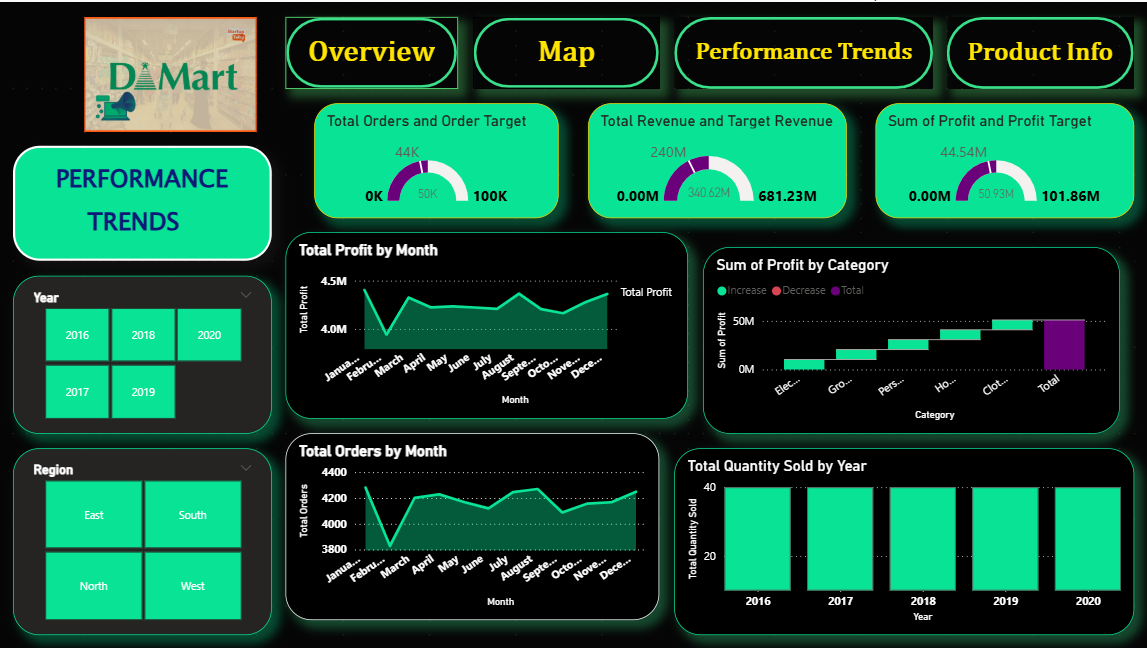

Layout of this report page (visuals, bound fields, positions):
{"tool":"powerbi","page":{"name":"Performance Trends ","canvas":[1280,720],"ordinal":3},"visuals":[{"type":"waterfallChart","fields":{"Y":["Sum(dmart_powerbi_dataset_50k.Profit)"],"Category":["dmart_powerbi_dataset_50k.Category"]},"box":[784,272,464,208],"z":0},{"type":"slicer","fields":{"Values":["dmart_powerbi_dataset_50k.Region"]},"box":[16,496,288,208],"z":1000},{"type":"slicer","fields":{"Values":["dmart_powerbi_dataset_50k.Order_Date.Variation.Date Hierarchy.Year"]},"box":[16,304,288,176],"z":2000},{"type":"areaChart","fields":{"Category":["dmart_powerbi_dataset_50k.Order_Date.Variation.Date Hierarchy.Month"],"Y":["dmart_powerbi_dataset_50k.Total Orders"]},"box":[320,480,416,208],"z":3000},{"type":"clusteredColumnChart","fields":{"Category":["dmart_powerbi_dataset_50k.Order_Date.Variation.Date Hierarchy.Year"],"Y":["dmart_powerbi_dataset_50k.Total Quantity Sold"]},"box":[752,496,512,208],"z":4000},{"type":"stackedAreaChart","fields":{"Category":["dmart_powerbi_dataset_50k.Order_Date.Variation.Date Hierarchy.Month"],"Y":["dmart_powerbi_dataset_50k.Total Profit"]},"box":[320,256,448,208],"z":5000},{"type":"gauge","fields":{"Y":["dmart_powerbi_dataset_50k.Total Orders"],"TargetValue":["dmart_powerbi_dataset_50k.Order Target"]},"box":[352,112,272,128],"z":6000},{"type":"gauge","fields":{"Y":["dmart_powerbi_dataset_50k.Total Revenue"],"TargetValue":["dmart_powerbi_dataset_50k.Target Revenue"]},"box":[656,112,288,128],"z":7000},{"type":"gauge","fields":{"Y":["Sum(dmart_powerbi_dataset_50k.Profit)"],"TargetValue":["dmart_powerbi_dataset_50k.Profit Target"]},"box":[976,112,288,128],"z":8000},{"type":"actionButton","box":[528,16,208,80],"z":9000},{"type":"actionButton","box":[752,16,288,80],"z":10000},{"type":"actionButton","box":[1056,16,208,80],"z":11000},{"type":"actionButton","box":[320,16,192,80],"z":12000},{"type":"textbox","box":[16,160,288,128],"z":13000},{"type":"image","box":[32,16,320,128],"z":14000}]}

Visuals, with their boxes in screenshot pixels (x1, y1, x2, y2), scaled from the page's 1280x720 canvas onto the 1147x648 screenshot:
waterfallChart - Sum(dmart_powerbi_dataset_50k.Profit) x dmart_powerbi_dataset_50k.Category: left=703, top=245, right=1118, bottom=432
slicer - dmart_powerbi_dataset_50k.Region: left=14, top=446, right=272, bottom=634
slicer - dmart_powerbi_dataset_50k.Order_Date.Variation.Date Hierarchy.Year: left=14, top=274, right=272, bottom=432
areaChart - dmart_powerbi_dataset_50k.Order_Date.Variation.Date Hierarchy.Month x dmart_powerbi_dataset_50k.Total Orders: left=287, top=432, right=660, bottom=619
clusteredColumnChart - dmart_powerbi_dataset_50k.Order_Date.Variation.Date Hierarchy.Year x dmart_powerbi_dataset_50k.Total Quantity Sold: left=674, top=446, right=1133, bottom=634
stackedAreaChart - dmart_powerbi_dataset_50k.Order_Date.Variation.Date Hierarchy.Month x dmart_powerbi_dataset_50k.Total Profit: left=287, top=230, right=688, bottom=418
gauge - dmart_powerbi_dataset_50k.Total Orders x dmart_powerbi_dataset_50k.Order Target: left=315, top=101, right=559, bottom=216
gauge - dmart_powerbi_dataset_50k.Total Revenue x dmart_powerbi_dataset_50k.Target Revenue: left=588, top=101, right=846, bottom=216
gauge - Sum(dmart_powerbi_dataset_50k.Profit) x dmart_powerbi_dataset_50k.Profit Target: left=875, top=101, right=1133, bottom=216
actionButton: left=473, top=14, right=660, bottom=86
actionButton: left=674, top=14, right=932, bottom=86
actionButton: left=946, top=14, right=1133, bottom=86
actionButton: left=287, top=14, right=459, bottom=86
textbox: left=14, top=144, right=272, bottom=259
image: left=29, top=14, right=315, bottom=130
